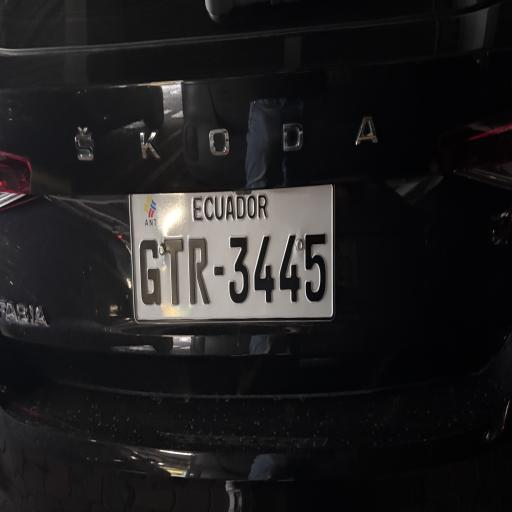license_plate: (131, 185, 334, 321)
